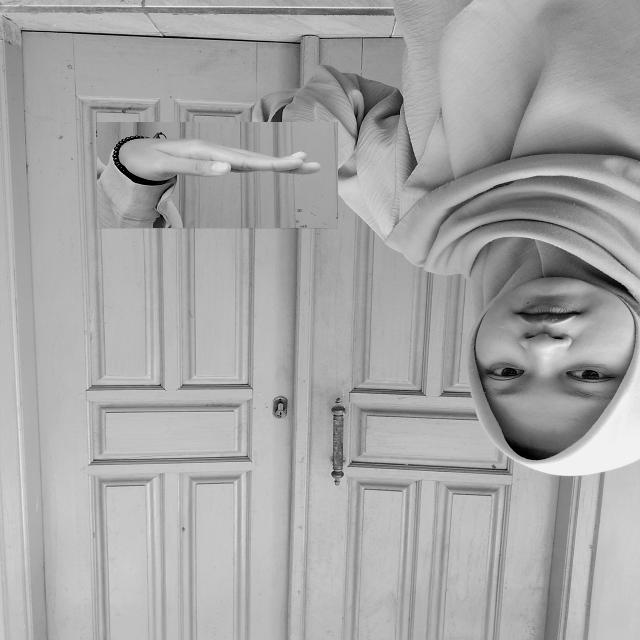adik: (96, 122, 338, 229)
